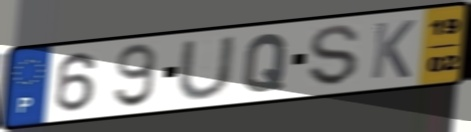6: (54, 49, 100, 114)
9: (112, 41, 160, 111)
K: (368, 18, 418, 82)
Q: (240, 31, 292, 95)
S: (307, 24, 362, 89)
U: (174, 33, 238, 101)
